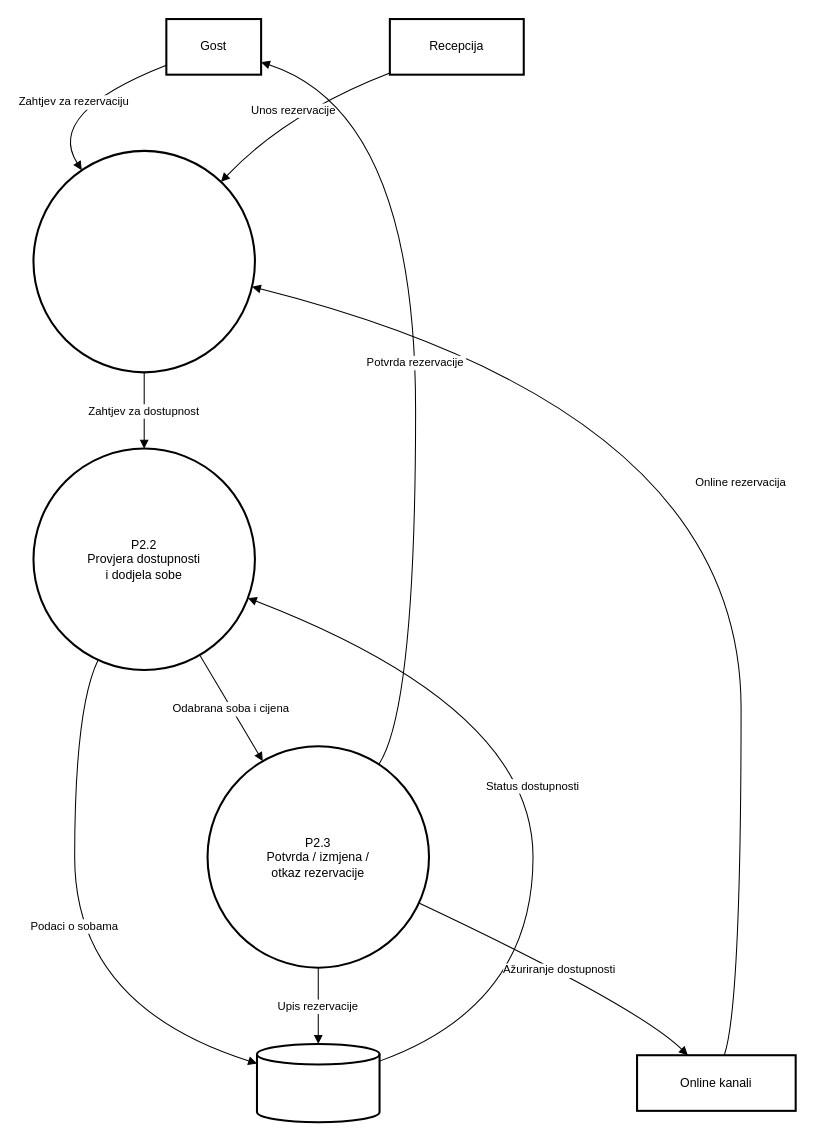
Image size: 814x1140. Some labels were removed from this diagram. Each missing label, with the centre of its shape:
Baza podataka: point (317, 1082)
P2.1 Zaprimanje rezervacije: point (143, 261)
